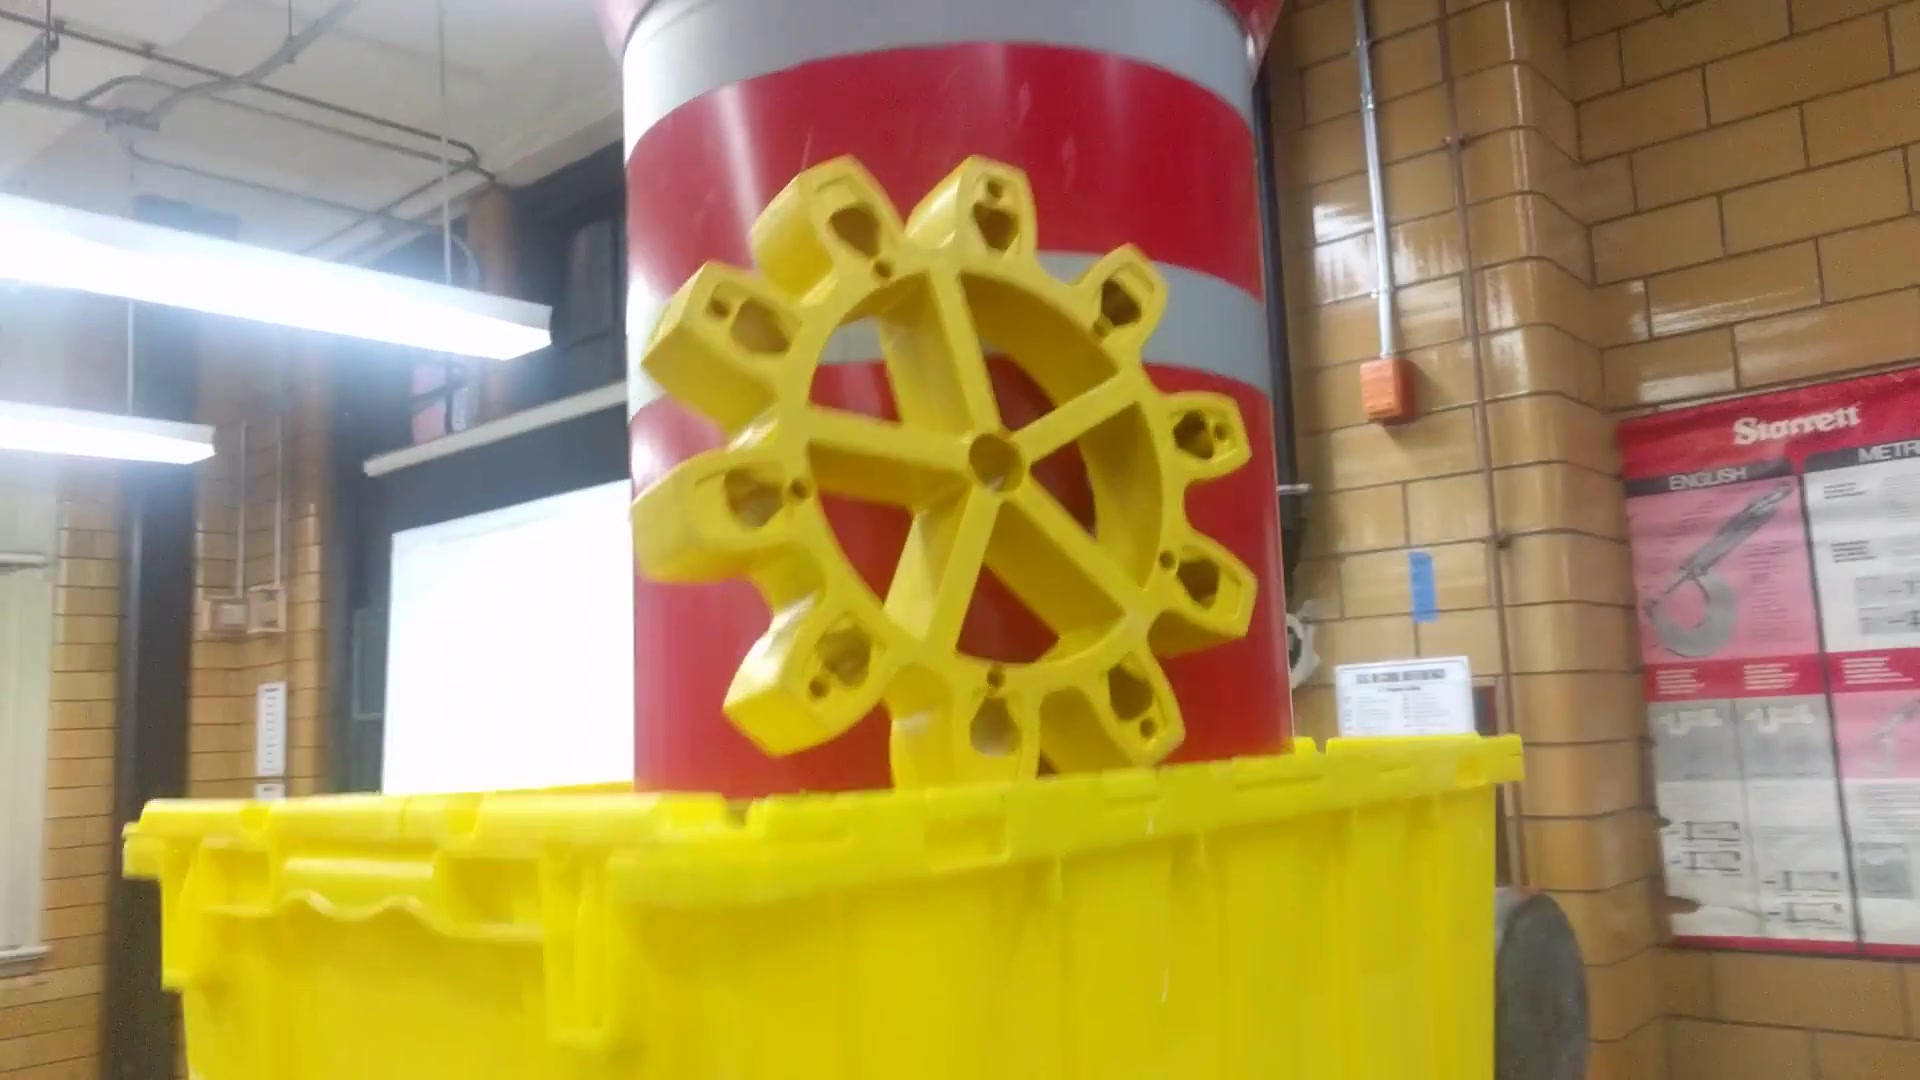gear: (613, 128, 1261, 786)
